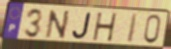0: (143, 14, 163, 46)
3: (24, 8, 45, 39)
H: (92, 12, 119, 43)
I: (126, 14, 140, 45)
J: (71, 11, 93, 41)
N: (44, 9, 72, 40)
